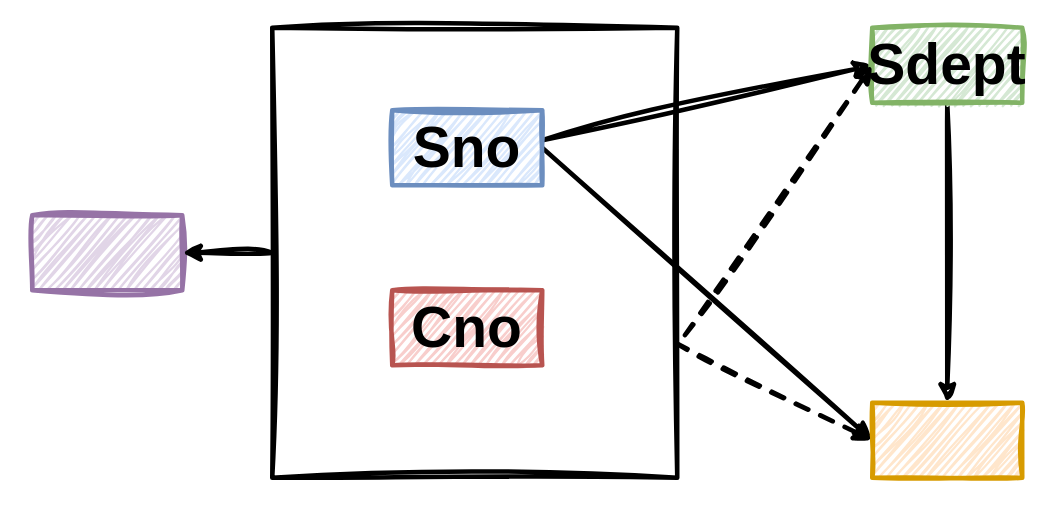
This 1050x506 diagram has some shape labels left out. Here are the shapes that lost their labels. From the top down, the box of each, then its label:
(29, 212, 184, 292): Grade
(869, 400, 1024, 479): Sloc
